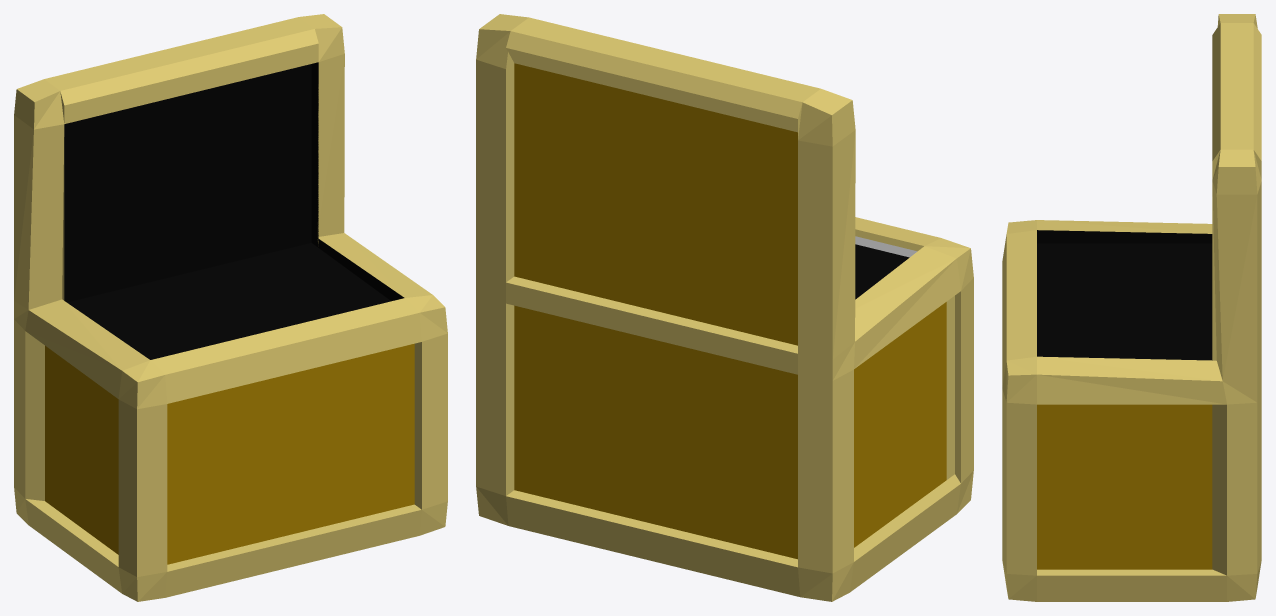
Rendered from Chest_Locked_Open.fbx.
3 renders of one model, left to right at view 1: azimuth 30°, elevation 25°; view 2: azimuth 150°, elevation 25°; view 3: azimuth 270°, elevation 25°, orthographic. The views are drawn at different scales.
Visible parts, largest first — view 1: pCube18; view 2: pCube18; view 3: pCube18.
Boxes of the visible parts, x1,y1,x2,y2 form: pCube18: (14,14,447,601); pCube18: (476,14,973,601); pCube18: (1002,14,1261,601).
Size of the model in its own units: 16.28 by 21.21 by 11.28.
